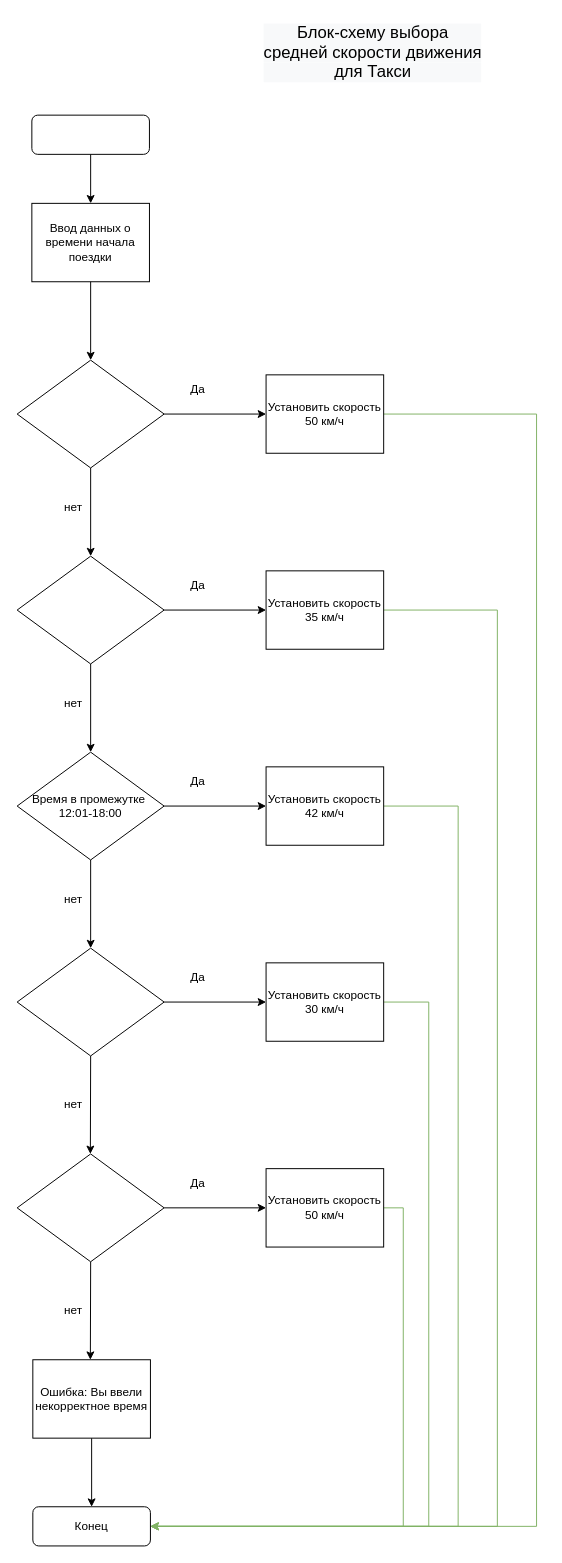
The diagram is 562 pixels wide and 1563 high, and some of its shapes have lost their labels. The centre of each missing label's shape, as x and y in pixels:
"Время в промежутке 00:01-08:00" belongs at [90,413].
"Время в промежутке 08:01-12:00" belongs at [90,609].
"Время в промежутке 18:01-22:00" belongs at [90,1001].
"Время в промежутке 22:01-00:00" belongs at [90,1207].
"Начало" belongs at [90,134].
